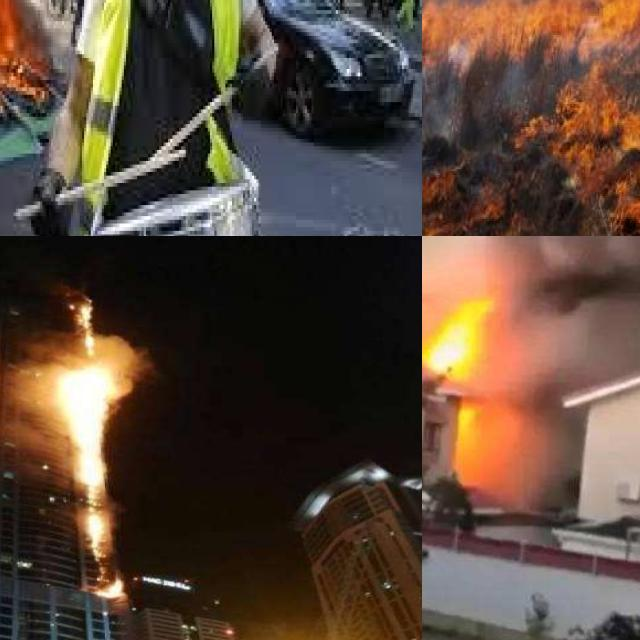fire: (422, 0, 640, 236), (56, 295, 140, 598), (423, 301, 509, 476)
smoke: (509, 236, 640, 505), (0, 332, 154, 428), (422, 236, 506, 300)
